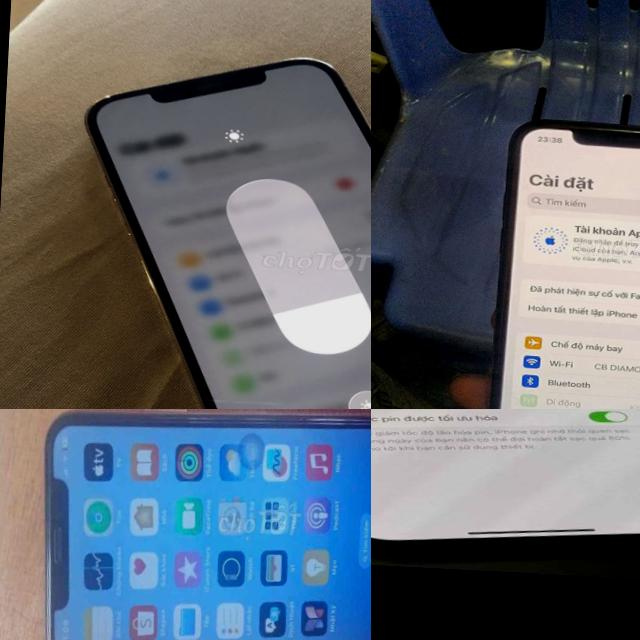gen_12_13: (59, 40, 371, 409), (371, 409, 640, 569)
gen_x_xs: (21, 409, 371, 640), (482, 116, 640, 409)
